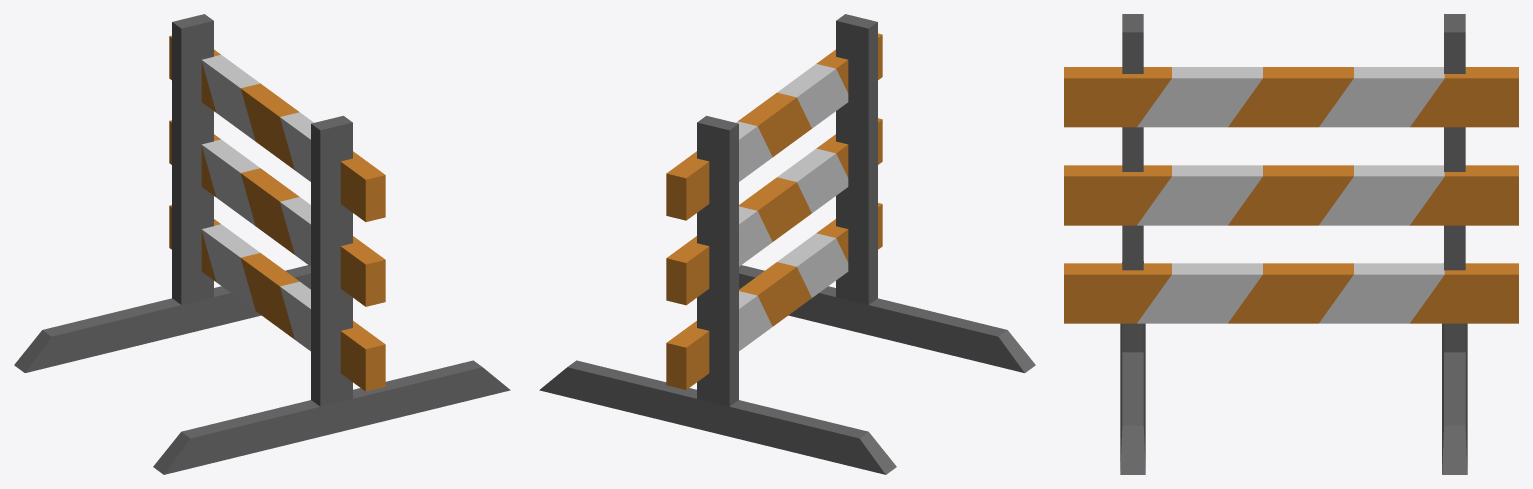
File: construction_barrier_1.fbx
The picture shows the model from 3 angles, left to right: view 1: azimuth 30°, elevation 25°; view 2: azimuth 150°, elevation 25°; view 3: azimuth 270°, elevation 25°; orthographic projection. The views are drawn at different scales.
Parts seen in each view (by area): view 1: Cube; view 2: Cube; view 3: Cube.
Boxes of the visible parts, x1,y1,x2,y2 form: Cube: (14,14,510,474); Cube: (539,14,1035,474); Cube: (1064,14,1518,474).
Bounding box in the file's own units: 147 × 124 × 144.
